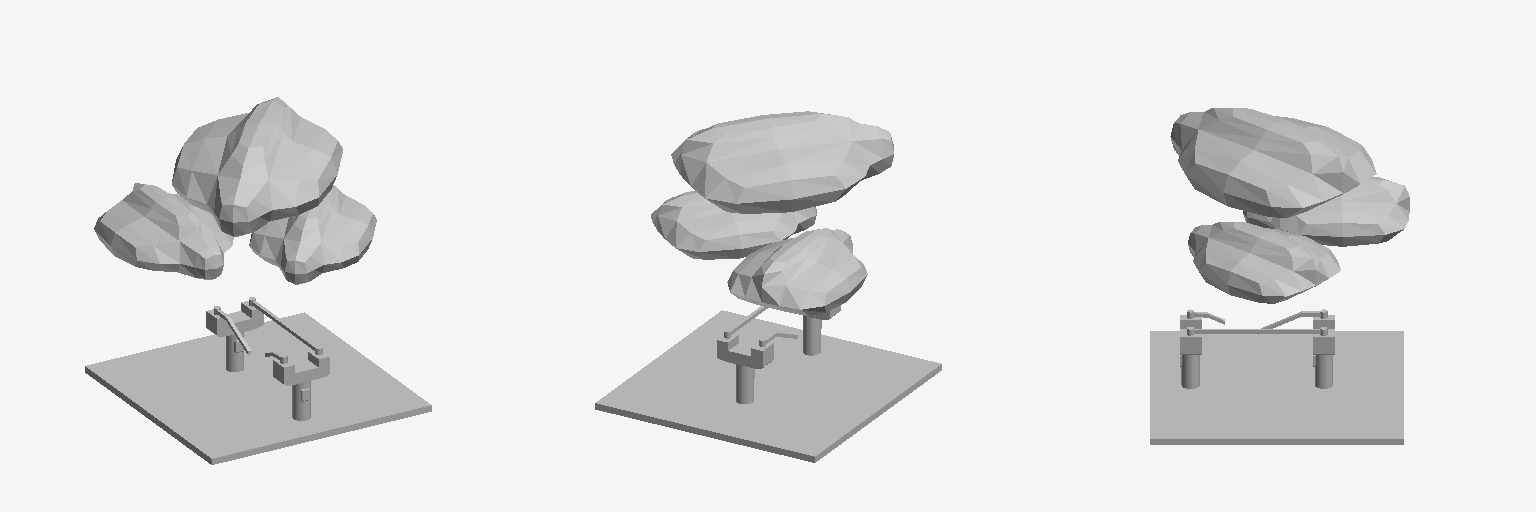
File: DioramaElectrico.obj
The picture shows the model from 3 angles: view 1: azimuth 30°, elevation 25°; view 2: azimuth 150°, elevation 25°; view 3: azimuth 270°, elevation 25°; orthographic projection.
Visible parts, largest first — view 1: Floor_Cube.002, Cloud3_Mesh, Cloud1_Mesh, Cloud2_Mesh, Electric12_Cube.003, Electric12.001_Cube.004, Electric1_Cylinder; view 2: Floor_Cube.002, Cloud3_Mesh, Cloud1_Mesh, Cloud2_Mesh, Electric12.001_Cube.004, Electric1.001_Cylinder.003, Electric1_Cylinder; view 3: Floor_Cube.002, Cloud3_Mesh, Cloud2_Mesh, Cloud1_Mesh, Electric12_Cube.003, Electric12.001_Cube.004, Cable2_Cube.005, Electric1_Cylinder, Electric1.001_Cylinder.003.
Part boxes in pixels (x1,y1,x2,y2): Floor_Cube.002: (85,312,431,464); Cloud3_Mesh: (172,97,342,236); Cloud1_Mesh: (94,183,233,279); Cloud2_Mesh: (249,185,376,284); Electric12_Cube.003: (273,350,329,385); Electric12.001_Cube.004: (206,301,263,336); Electric1_Cylinder: (292,381,310,420); Floor_Cube.002: (595,310,941,462); Cloud3_Mesh: (671,111,893,213); Cloud1_Mesh: (727,228,867,315); Cloud2_Mesh: (651,191,816,259); Electric12.001_Cube.004: (717,333,773,368); Electric1.001_Cylinder.003: (736,364,753,403); Electric1_Cylinder: (803,316,820,355); Floor_Cube.002: (1150,331,1403,444); Cloud3_Mesh: (1170,108,1376,217); Cloud2_Mesh: (1188,222,1340,303); Cloud1_Mesh: (1243,177,1409,246); Electric12_Cube.003: (1180,315,1201,354); Electric12.001_Cube.004: (1313,315,1334,354); Cable2_Cube.005: (1194,329,1320,333); Electric1_Cylinder: (1181,355,1199,388); Electric1.001_Cylinder.003: (1315,355,1332,388).
Bounding box in the file's own units: 12.24 × 13.82 × 12.03.